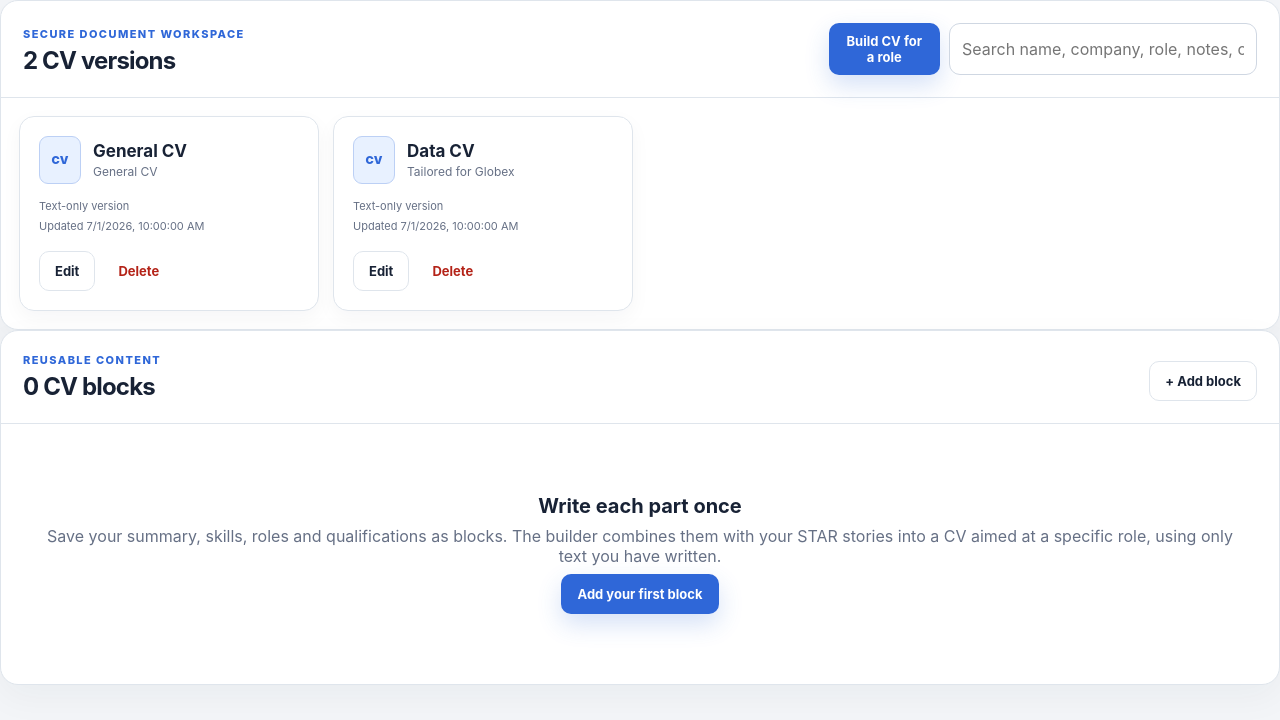
Test: CVLibrary › filters the library as the user searches
Check: the heading "General CV" is shown, box 93,141 -> 187,161
In the field named "Search CVs": (1103,49) 949,23 -> 1257,75, type "globex"
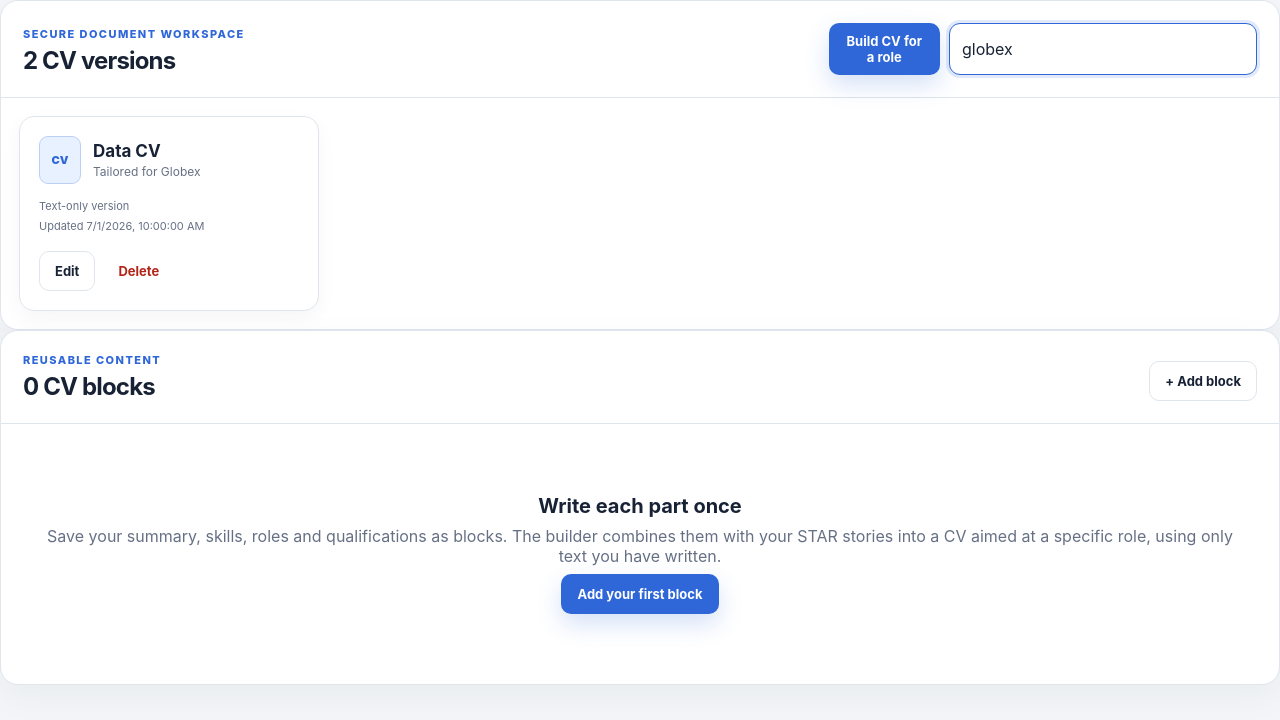
Check: the heading "Data CV" is shown, box 93,141 -> 161,161
Check: the heading "General CV" is gone
